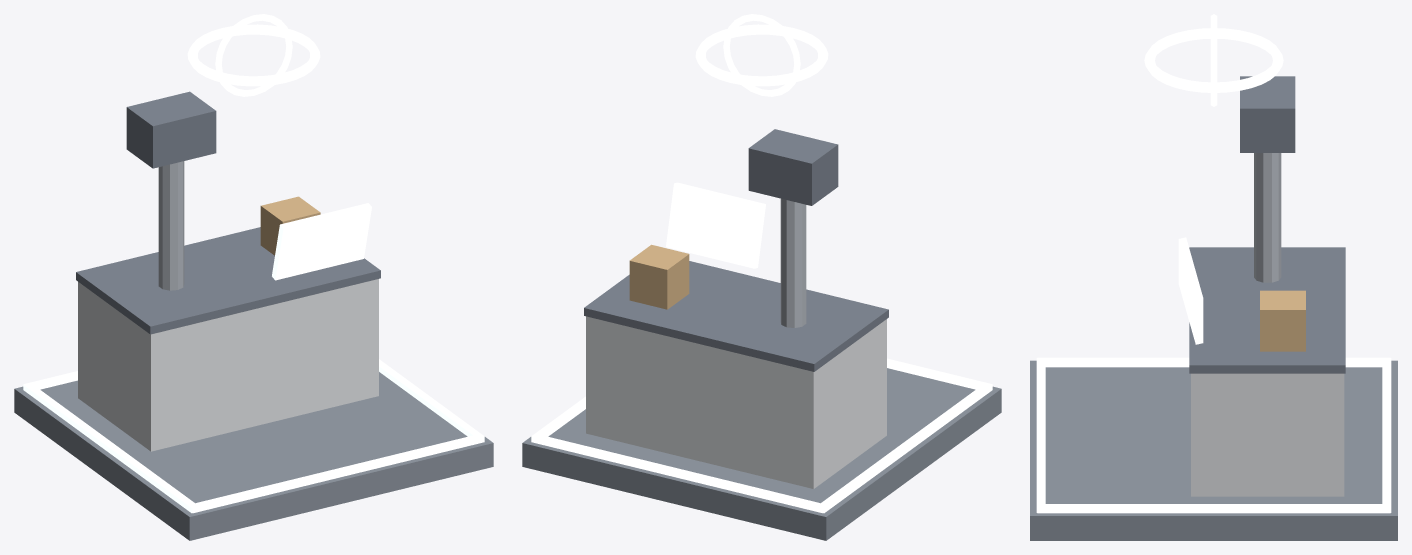
File: test_bench.glb
The picture shows the model from 3 angles, left to right: view 1: azimuth 30°, elevation 25°; view 2: azimuth 150°, elevation 25°; view 3: azimuth 270°, elevation 25°; orthographic projection. The views are drawn at different scales.
Visible parts, largest first — view 1: Cube.005, Cube, Cube.006, Cube.007, Cube.008, Cylinder, Cube.001, Torus, Cube.002, Cube.009, Torus.001, Cube.004; view 2: Cube.005, Cube, Cube.006, Cube.008, Cube.007, Cylinder, Cube.009, Cube.003, Torus, Cube.002, Torus.001, Cube.001 (+1 smaller); view 3: Cube, Cube.005, Cube.006, Cube.007, Cylinder, Cube.004, Torus, Cube.009, Cube.002, Cube.008, Cube.001, Cube.003 (+1 smaller).
Boxes of the visible parts, bbox=[...] form: Cube.005: bbox=[78, 279, 378, 451]; Cube: bbox=[14, 372, 493, 540]; Cube.006: bbox=[76, 227, 380, 334]; Cube.007: bbox=[126, 91, 216, 168]; Cube.008: bbox=[272, 203, 371, 280]; Cylinder: bbox=[158, 161, 184, 290]; Cube.001: bbox=[189, 434, 484, 513]; Torus: bbox=[187, 24, 320, 86]; Cube.002: bbox=[23, 383, 194, 513]; Cube.009: bbox=[260, 196, 320, 255]; Torus.001: bbox=[215, 14, 292, 96]; Cube.004: bbox=[379, 359, 484, 436]; Cube.005: bbox=[586, 316, 886, 488]; Cube: bbox=[522, 368, 1001, 540]; Cube.006: bbox=[584, 261, 888, 371]; Cube.008: bbox=[666, 182, 765, 268]; Cube.007: bbox=[748, 129, 838, 205]; Cylinder: bbox=[780, 198, 806, 327]; Cube.009: bbox=[629, 244, 689, 309]; Cube.003: bbox=[531, 434, 826, 513]; Torus: bbox=[695, 24, 828, 86]; Cube.002: bbox=[821, 384, 992, 513]; Torus.001: bbox=[723, 14, 800, 96]; Cube.001: bbox=[887, 358, 992, 389]; Cube: bbox=[1030, 360, 1397, 540]; Cube.005: bbox=[1191, 373, 1344, 496]; Cube.006: bbox=[1189, 247, 1345, 373]; Cube.007: bbox=[1240, 76, 1295, 152]; Cylinder: bbox=[1254, 153, 1281, 282]; Cube.004: bbox=[1037, 504, 1390, 513]; Torus: bbox=[1144, 28, 1283, 92]; Cube.009: bbox=[1260, 290, 1305, 351]; Cube.002: bbox=[1037, 357, 1390, 367]; Cube.008: bbox=[1178, 237, 1203, 344]; Cube.001: bbox=[1036, 358, 1045, 512]; Cube.003: bbox=[1382, 358, 1391, 512].
Size of the model in its own units: 2.4 by 3.21 by 2.4.
